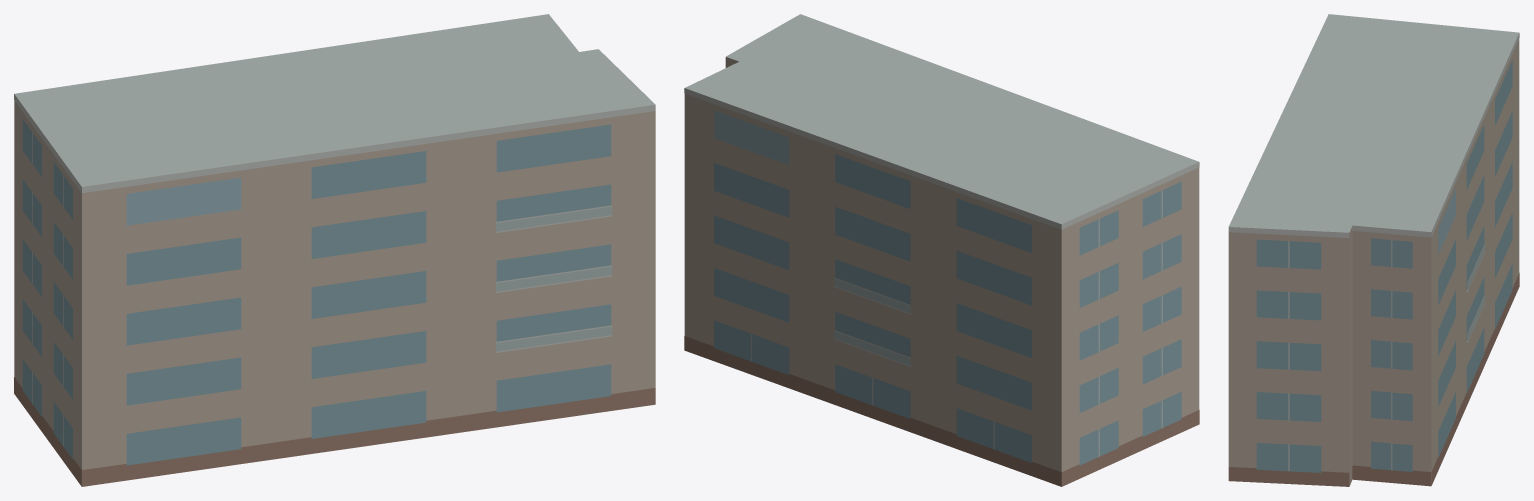
File: survey-upis-32932378.glb
3 renders of one model, left to right at view 1: azimuth 30°, elevation 25°; view 2: azimuth 150°, elevation 25°; view 3: azimuth 270°, elevation 25°, orthographic. The views are drawn at different scales.
Visible parts, largest first — view 1: survey-upis-32932378.tmp; view 2: survey-upis-32932378.tmp; view 3: survey-upis-32932378.tmp.
Part boxes in pixels (x1,y1,x2,y2): survey-upis-32932378.tmp: (14,14,655,486); survey-upis-32932378.tmp: (684,14,1199,486); survey-upis-32932378.tmp: (1228,14,1519,486).
Bounding box in the file's own units: 21.61 × 11.7 × 12.15.
